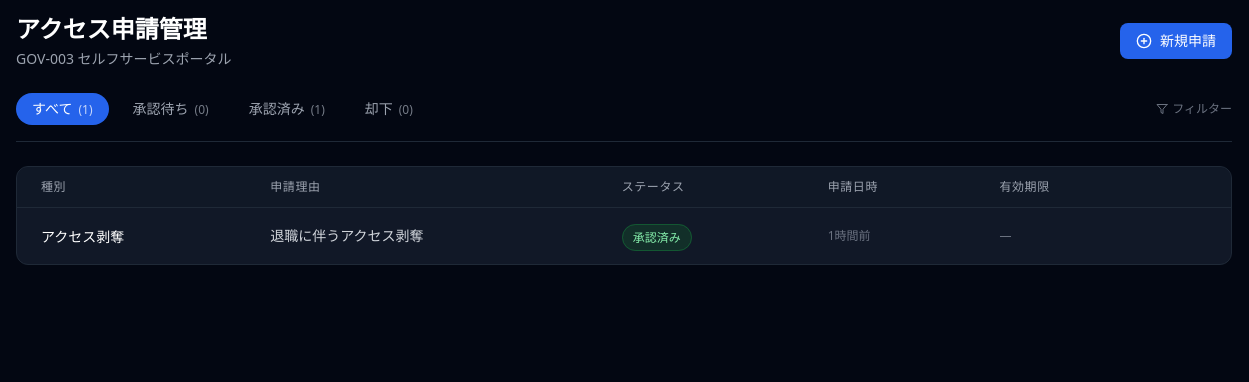
it: AccessRequestsPage › フィルター絞り込みで結果0件のとき「申請がありません」が表示される（lines 123-128）
The width and height of the screenshot is (1249, 382).
Click the button "承認待ち(0)".
click(171, 109)  # box [117, 93, 225, 125]
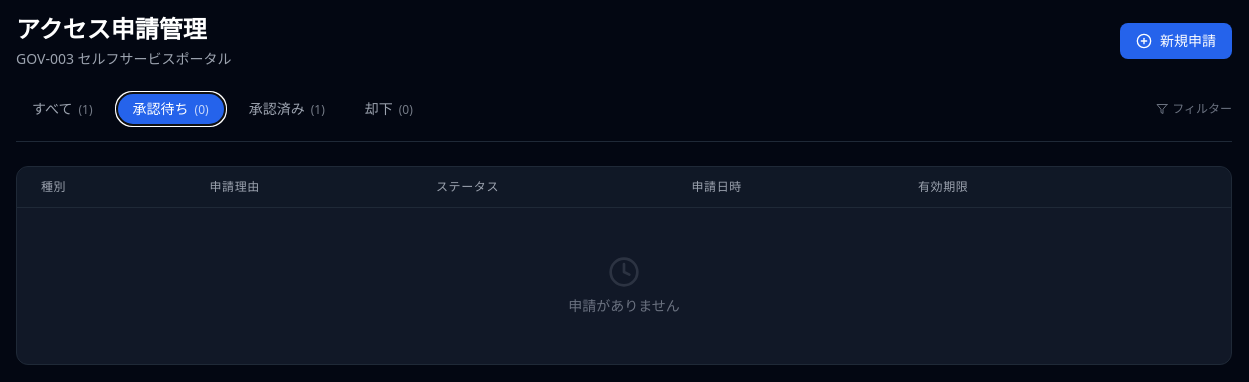
Expected: the text "申請がありません" is shown, [17, 208, 1231, 364]
